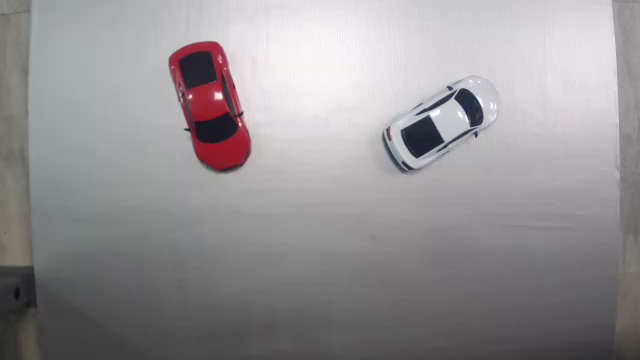car: (381, 74, 502, 172), (168, 40, 253, 172)
